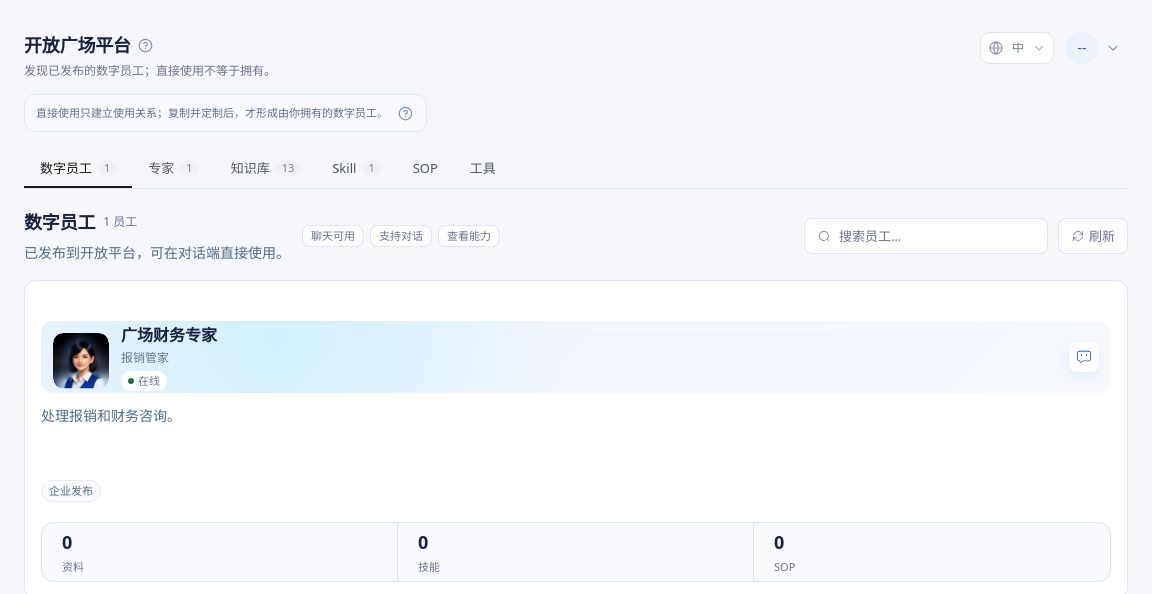
切换分类时只替换单一内容区
Expected: the text "广场财务专家" is shown, [121,324,217,346]
Click the tab "知识库 13" at (265, 170), box [215,152,316,188]
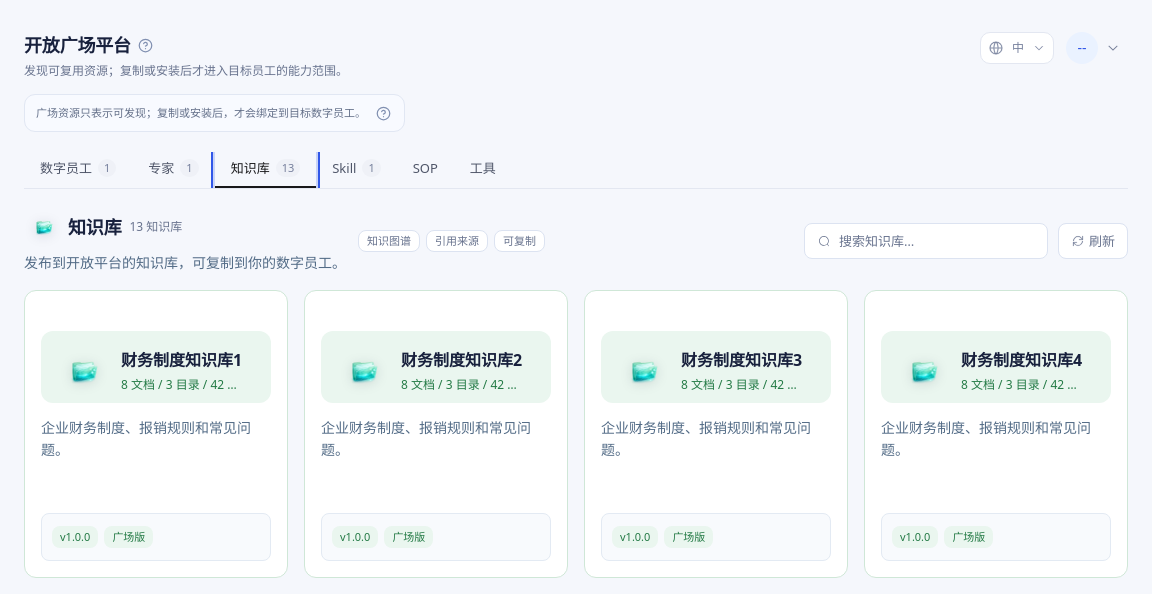
Expected: the heading "知识库" is shown, [68,214,122,240]
Expected: the button "广场财务专家" is gone
